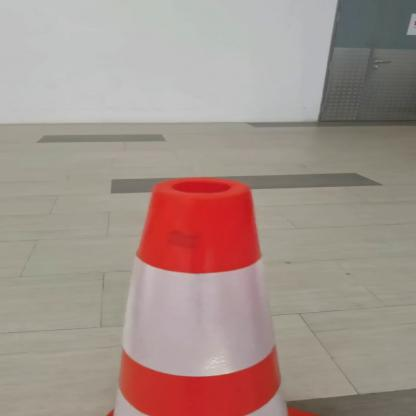cone: (54, 161, 340, 415)
